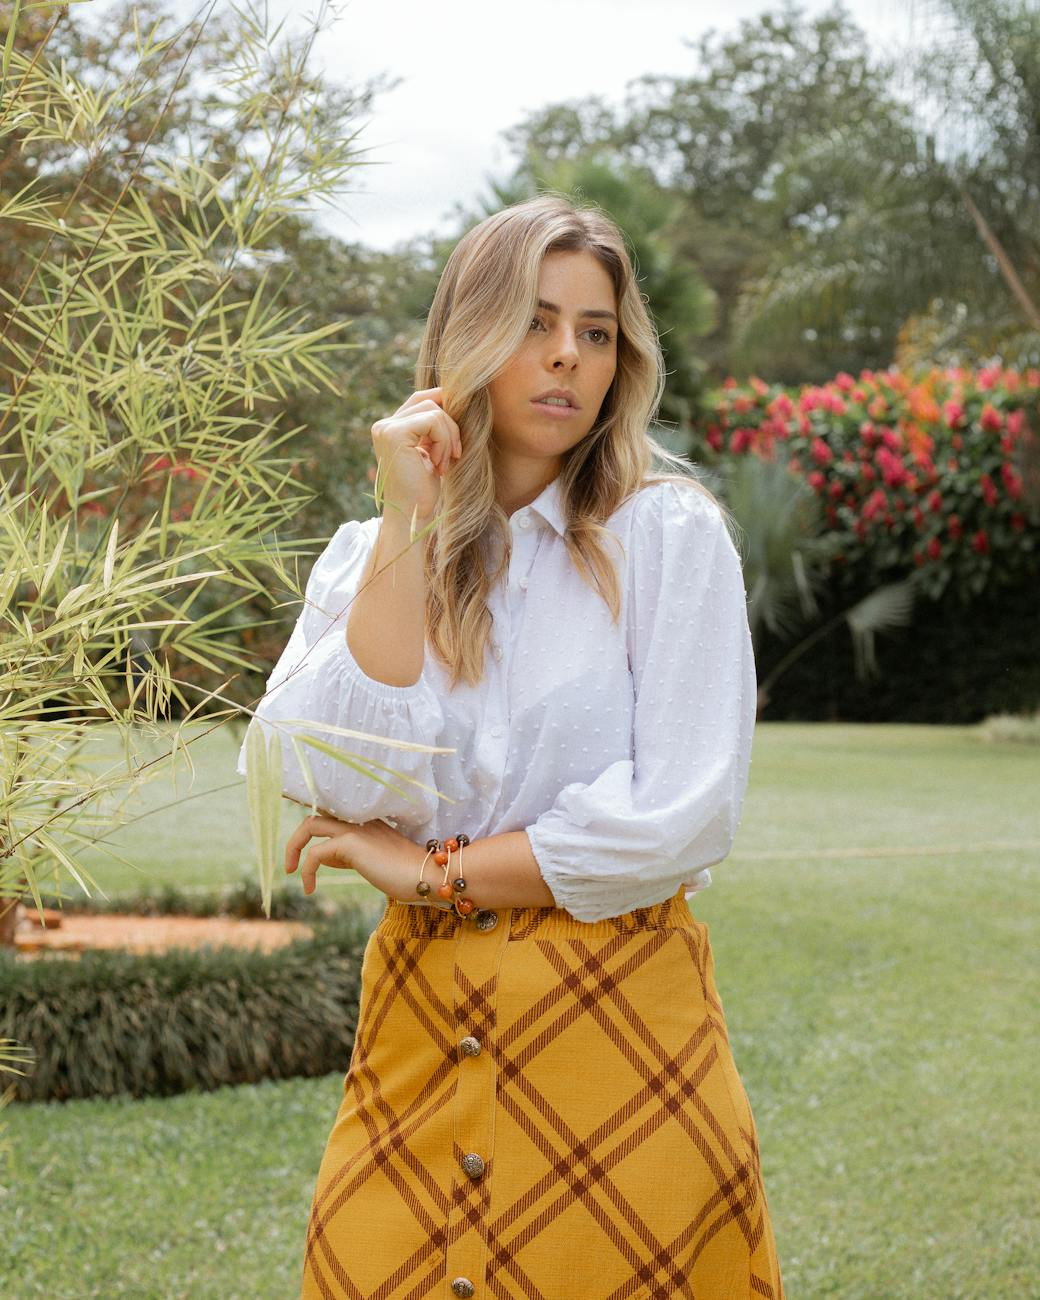transparent_top: (292, 509, 738, 853)
